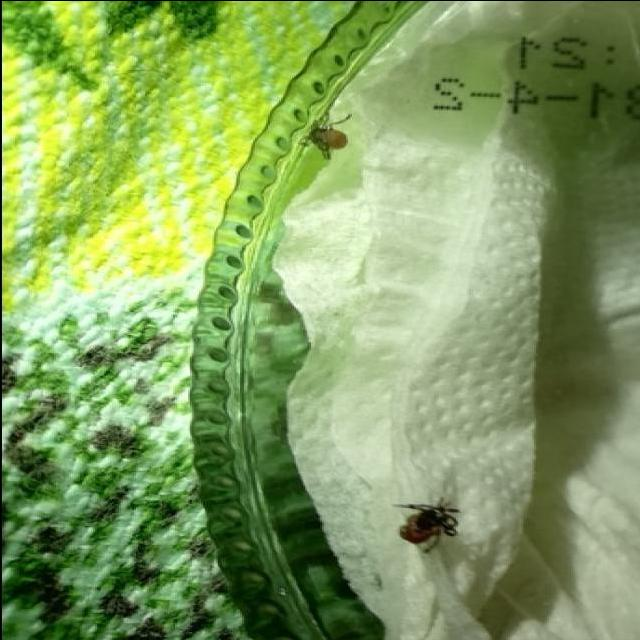Ixodes Ricinus-F: (389, 498, 460, 557)
